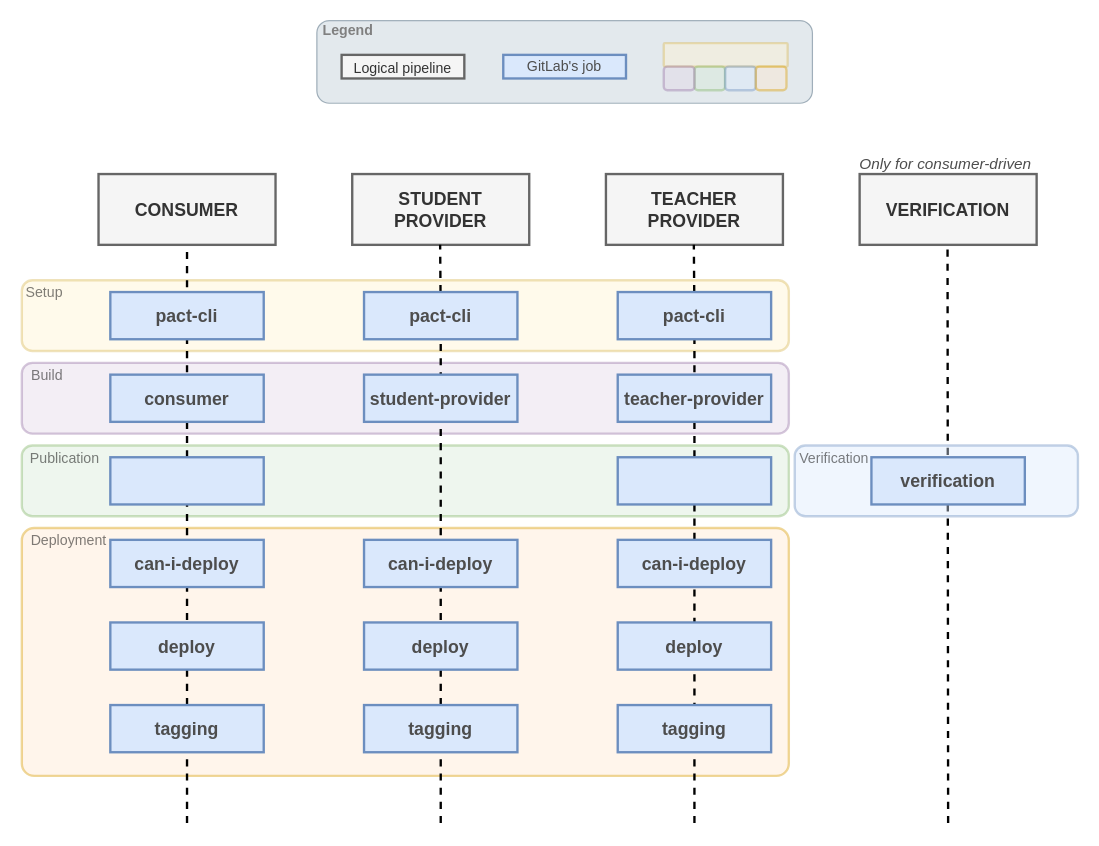
The diagram is 1099 pixels wide and 846 high, and some of its shapes have lost their labels. The centre of each missing label's shape, as x and y in pixels:
"GitLab's stages" belongs at (725,54).
"publish-contract" belongs at (186,480).
"publish-openapi" belongs at (694,480).
